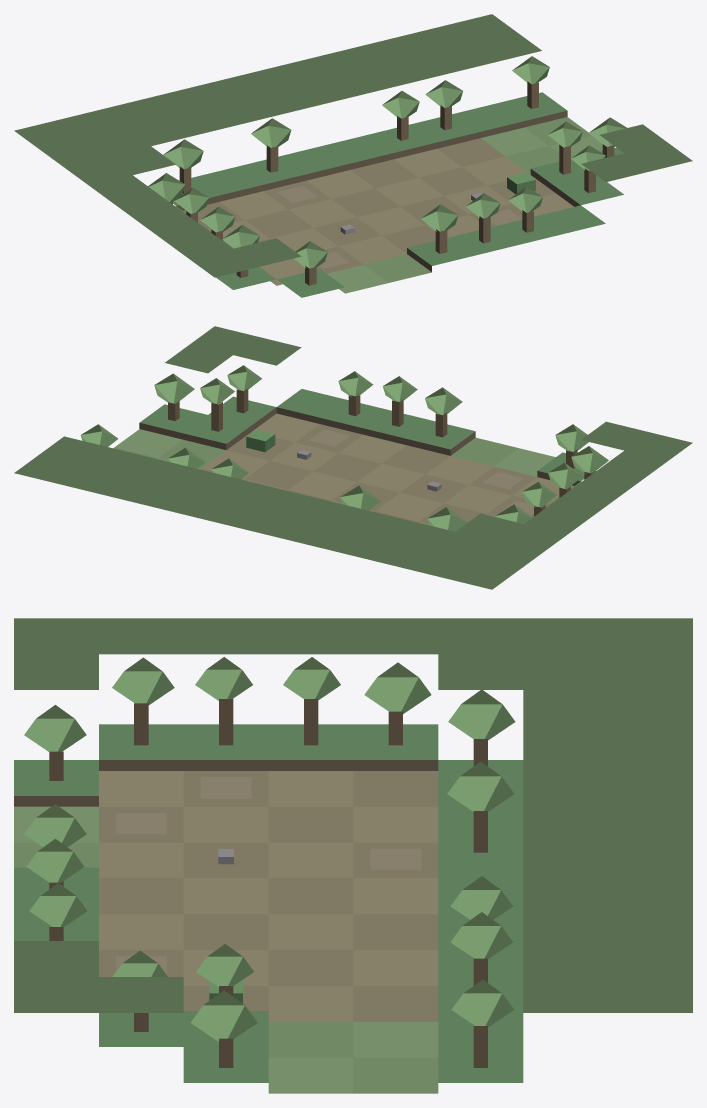
The picture shows the model from 3 angles, top to bottom: view 1: azimuth 30°, elevation 25°; view 2: azimuth 150°, elevation 25°; view 3: azimuth 270°, elevation 25°; orthographic projection. The views are drawn at different scales.
Parts seen in each view (by area): view 1: mesh0; view 2: mesh0; view 3: mesh0.
Boxes of the visible parts, bbox=[...] form: mesh0: bbox=[14, 14, 692, 297]; mesh0: bbox=[14, 326, 692, 589]; mesh0: bbox=[14, 618, 692, 1093].
Size of the model in its own units: 11 by 1.29 by 8.
